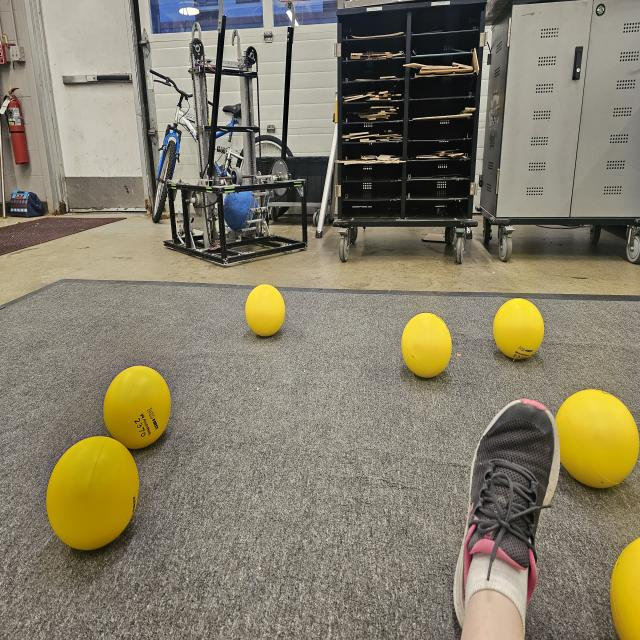Fuel: (46, 436, 140, 550), (553, 388, 640, 487), (104, 365, 170, 450), (609, 534, 640, 640), (402, 313, 451, 377), (492, 299, 544, 358), (246, 284, 286, 338)
